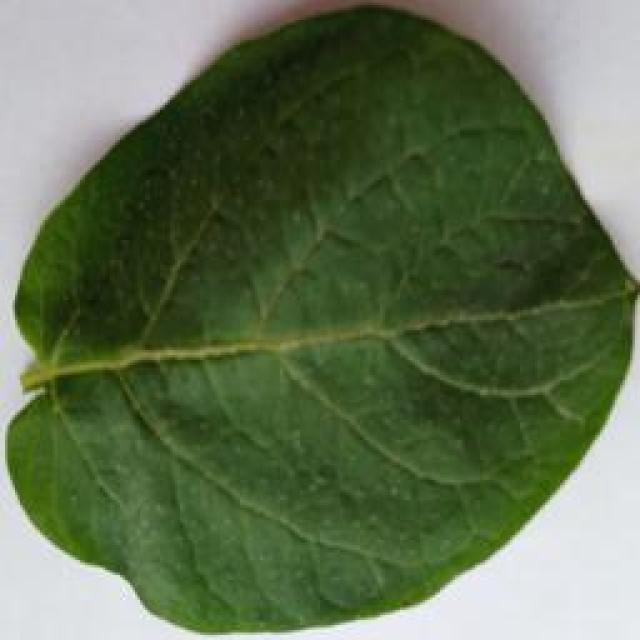Potato_Healthy: (3, 9, 626, 631)
